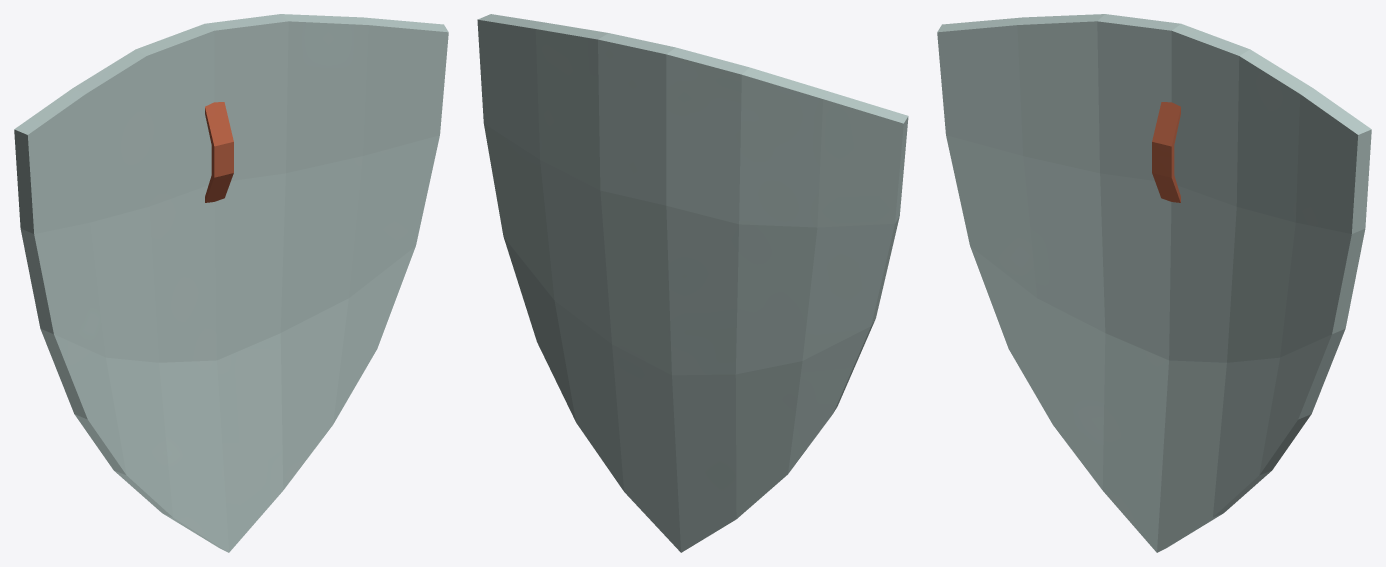
The model's file is Shield.glb.
3 renders of one model, left to right at view 1: azimuth 30°, elevation 25°; view 2: azimuth 150°, elevation 25°; view 3: azimuth 330°, elevation 25°, orthographic.
Visible parts, largest first — view 1: Shield 2; view 2: Shield 2; view 3: Shield 2.
Boxes of the visible parts, box(x1,y1,x2,y2) form: Shield 2: box(14, 14, 448, 552); Shield 2: box(477, 14, 908, 552); Shield 2: box(937, 14, 1371, 552).
Size of the model in its own units: 0.6848 by 0.7819 by 0.0929.
Materials: 1 (1 with a texture image).
